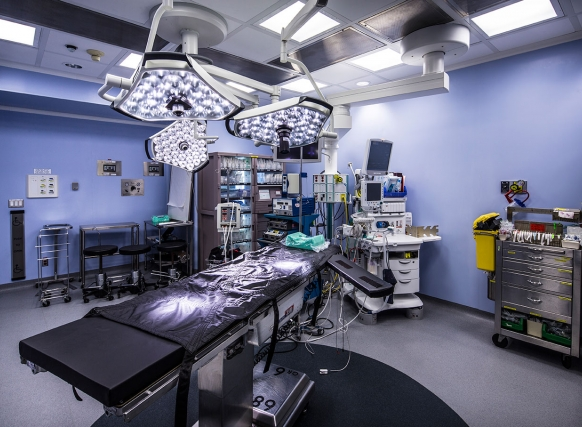bedside_monitor: (273, 138, 324, 163)
breathing_tube: (289, 229, 392, 373)
chair: (82, 245, 118, 304), (119, 244, 152, 298), (154, 241, 189, 291)
drawer: (388, 253, 422, 286)
electrosurgical_unit: (269, 196, 315, 217), (263, 221, 299, 240)
handle: (529, 294, 540, 306), (531, 255, 542, 261), (524, 268, 544, 271), (526, 283, 540, 286)
infusion_pump: (215, 202, 242, 233)
medical_drawer: (491, 237, 582, 370), (197, 151, 287, 273)
medical_waste_container: (472, 212, 503, 272)
operating_bed: (19, 231, 395, 427)
surgical_light: (99, 53, 245, 122), (224, 96, 335, 154), (144, 121, 219, 173)
utility_cart: (78, 221, 141, 293), (143, 219, 195, 286), (35, 223, 73, 308)
ventilator: (340, 138, 443, 325)
